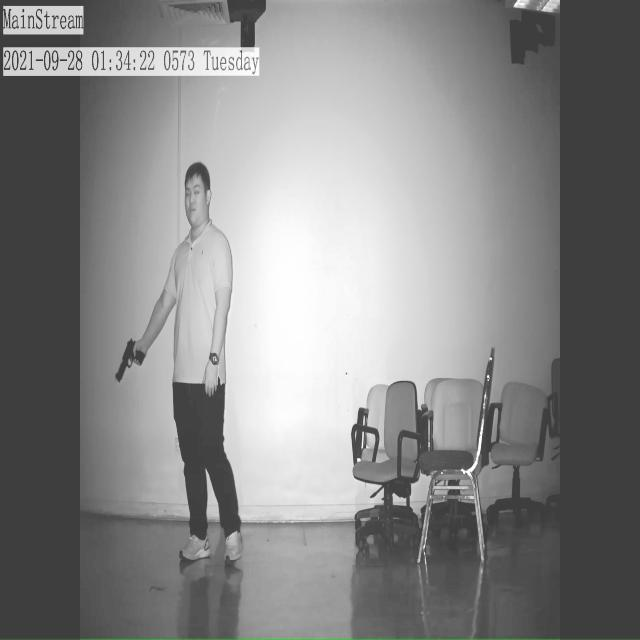Gun: (106, 328, 153, 389)
